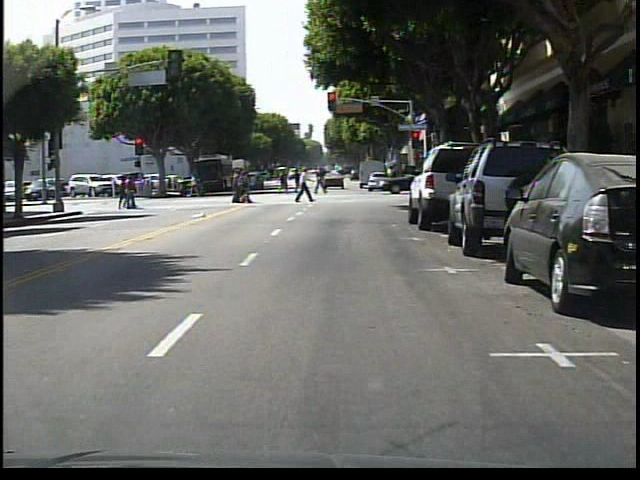person: (292, 166, 314, 205), (184, 169, 204, 199), (311, 166, 330, 195)
